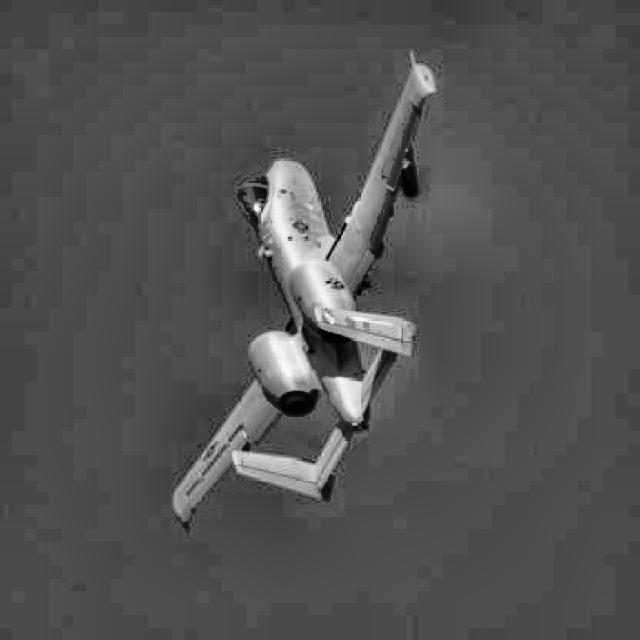A10: (172, 49, 436, 531)
